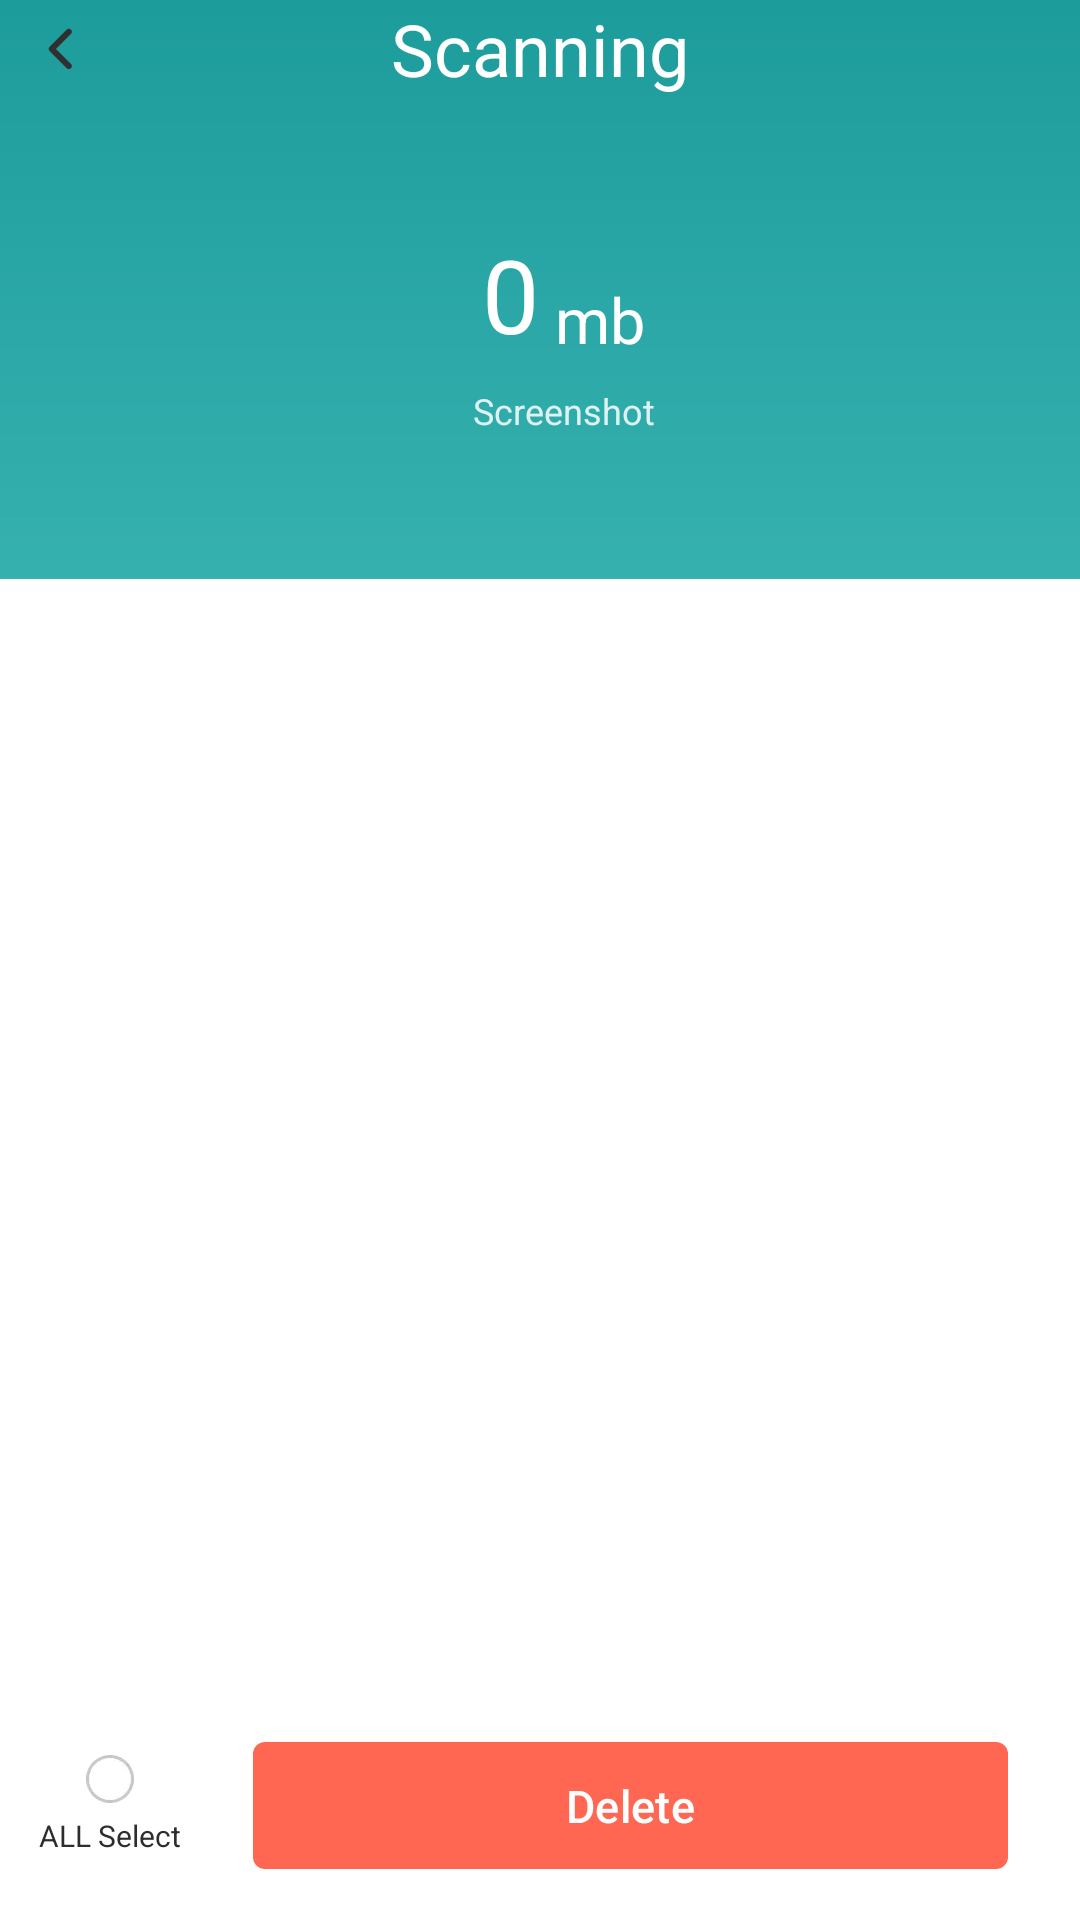

Icon bounding boxes for this 1080x1920 phone screenshot, format BBox(x1, y1, x2, y2):
reture: BBox(48, 29, 72, 69)
